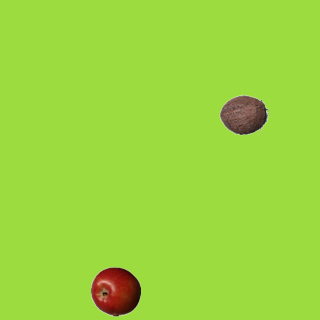Apple Braeburn: (90, 266, 140, 316)
Cocos: (218, 89, 268, 139)
